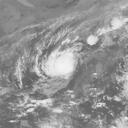cyclone: (41, 48, 79, 78)
